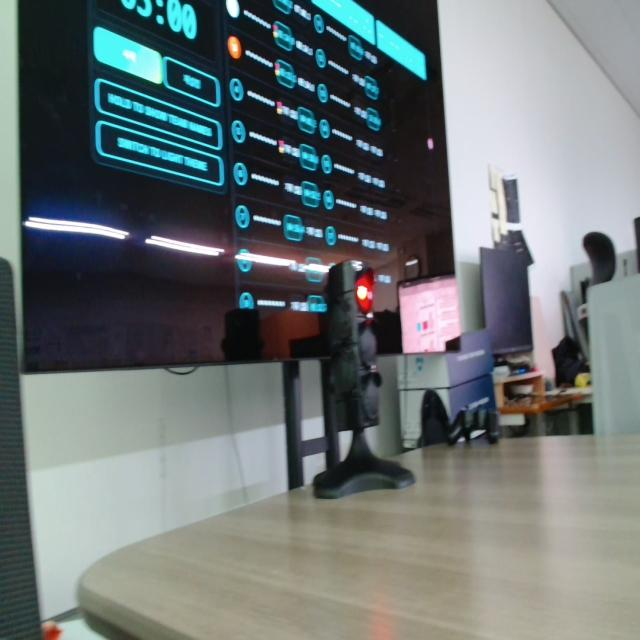red_light: (356, 270, 373, 314)
